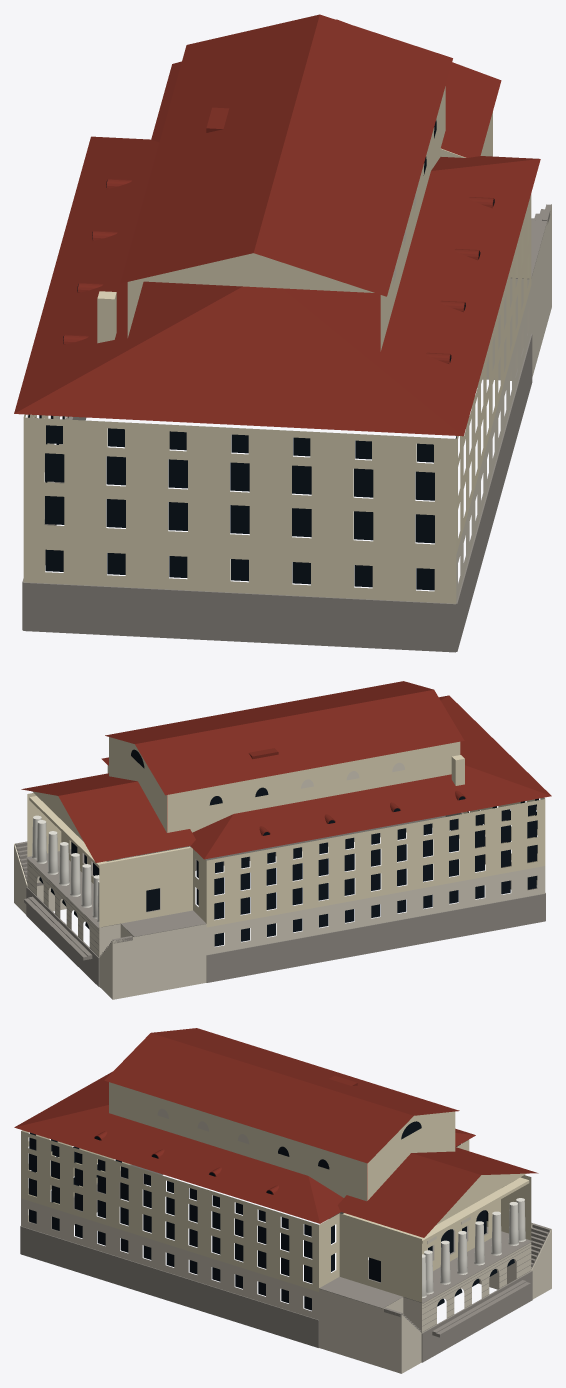
Rendered from theatre_lunacharsky.lod.glb.
3 views of the same model, one above another, from view 1: azimuth 30°, elevation 25°; view 2: azimuth 150°, elevation 25°; view 3: azimuth 270°, elevation 25° (orthographic). The views are drawn at different scales.
Visible parts, largest first — view 1: theatre_lunacharsky_roof, theatre_lunacharsky_wall, theatre_lunacharsky_stone, theatre_lunacharsky_glass, theatre_lunacharsky_wall2; view 2: theatre_lunacharsky_roof, theatre_lunacharsky_wall, theatre_lunacharsky_wall2, theatre_lunacharsky_stone, theatre_lunacharsky_glass, theatre_lunacharsky_trim_s; view 3: theatre_lunacharsky_roof, theatre_lunacharsky_wall, theatre_lunacharsky_wall2, theatre_lunacharsky_stone, theatre_lunacharsky_glass, theatre_lunacharsky_trim_s.
Boxes of the visible parts, x1,y1,x2,y2 form: theatre_lunacharsky_roof: (14, 14, 540, 436); theatre_lunacharsky_wall: (23, 86, 531, 603); theatre_lunacharsky_stone: (22, 204, 551, 652); theatre_lunacharsky_glass: (28, 120, 494, 590); theatre_lunacharsky_wall2: (44, 193, 551, 602); theatre_lunacharsky_roof: (21, 681, 551, 862); theatre_lunacharsky_wall: (27, 737, 545, 927); theatre_lunacharsky_wall2: (14, 762, 545, 999); theatre_lunacharsky_stone: (15, 812, 545, 986); theatre_lunacharsky_glass: (39, 749, 538, 946); theatre_lunacharsky_trim_s: (32, 815, 99, 922); theatre_lunacharsky_roof: (14, 1028, 538, 1237); theatre_lunacharsky_wall: (21, 1082, 531, 1302); theatre_lunacharsky_wall2: (21, 1108, 551, 1373); theatre_lunacharsky_stone: (20, 1164, 550, 1362); theatre_lunacharsky_glass: (28, 1121, 514, 1310); theatre_lunacharsky_trim_s: (422, 1198, 525, 1297).
Bounding box in the file's own units: 68.88 × 30.21 × 75.25.
